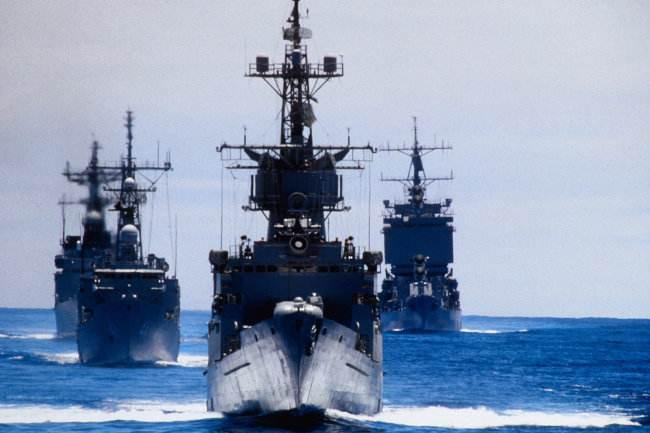warship: (204, 3, 392, 421), (71, 110, 199, 377), (379, 116, 467, 331), (42, 134, 120, 345)
